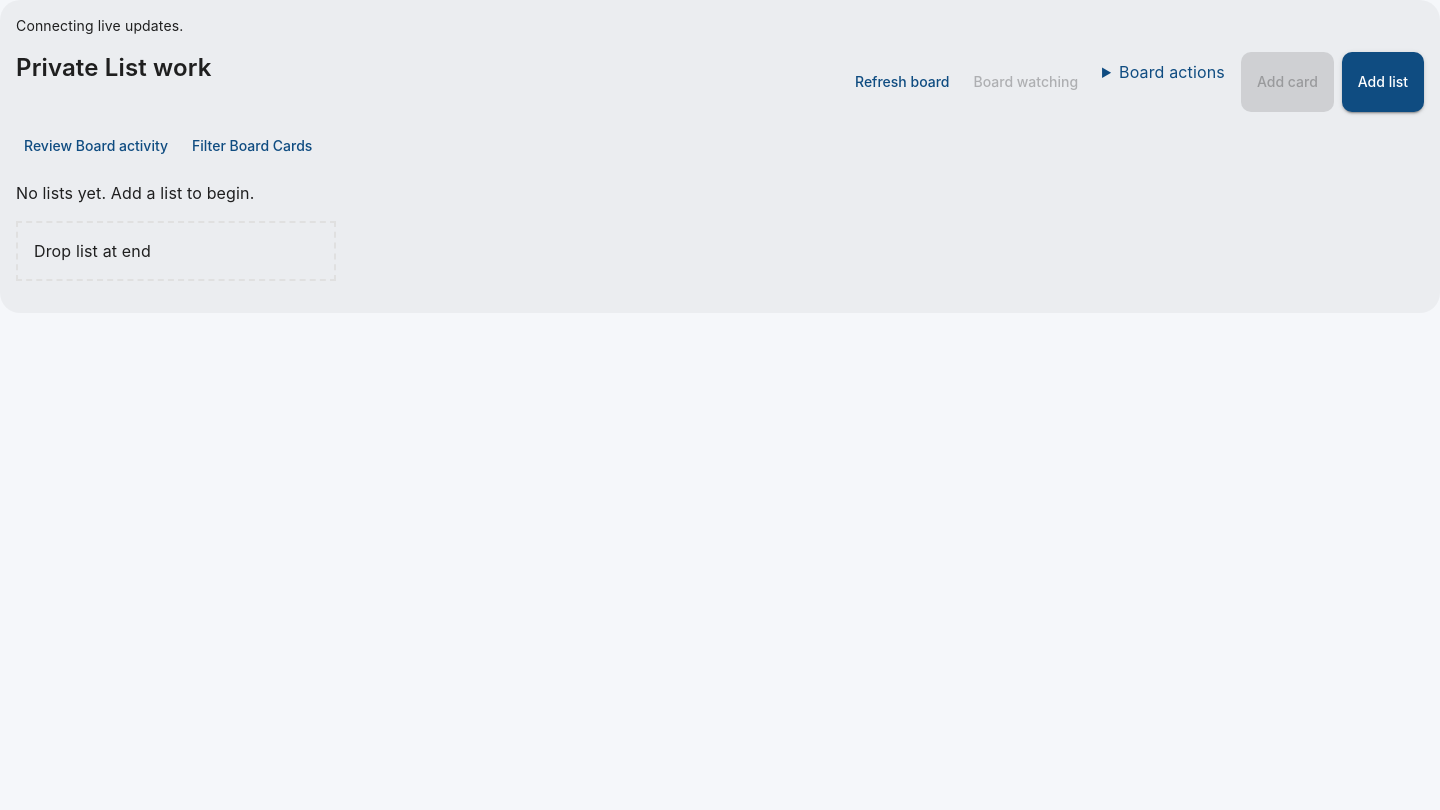
Scenario: PRD-07-VS-05 List creation identity › allows explicit entry retry after unavailable identity without exposing a List form
This screenshot has width=1440, height=810.
Click the button "Add list" at (1383,82), box [1342,52,1424,112]
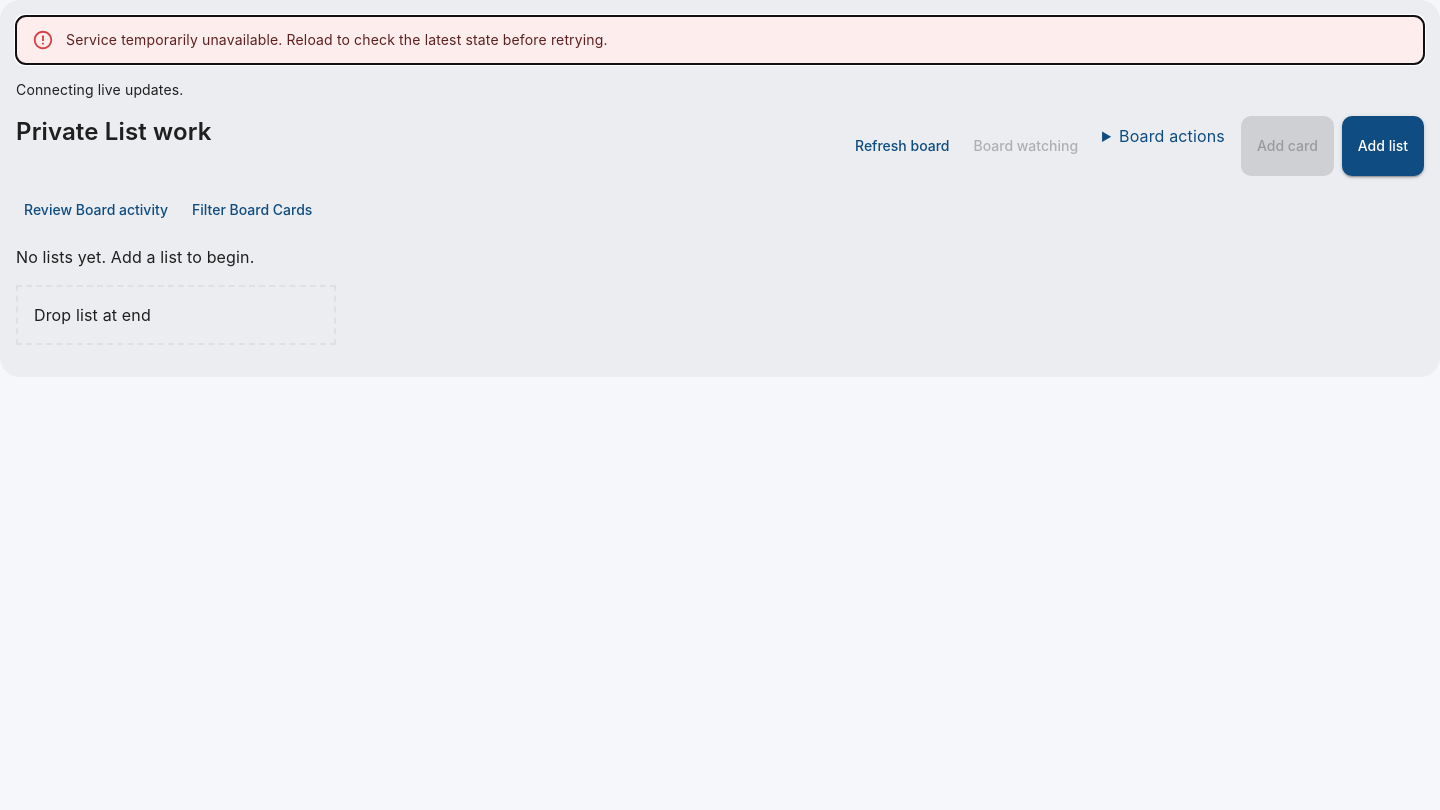
Expected: the 1st message shows "Service temporarily unavailable", [66,31,608,48]
Click the button "Add list" at (1383,146), box [1342,116,1424,176]
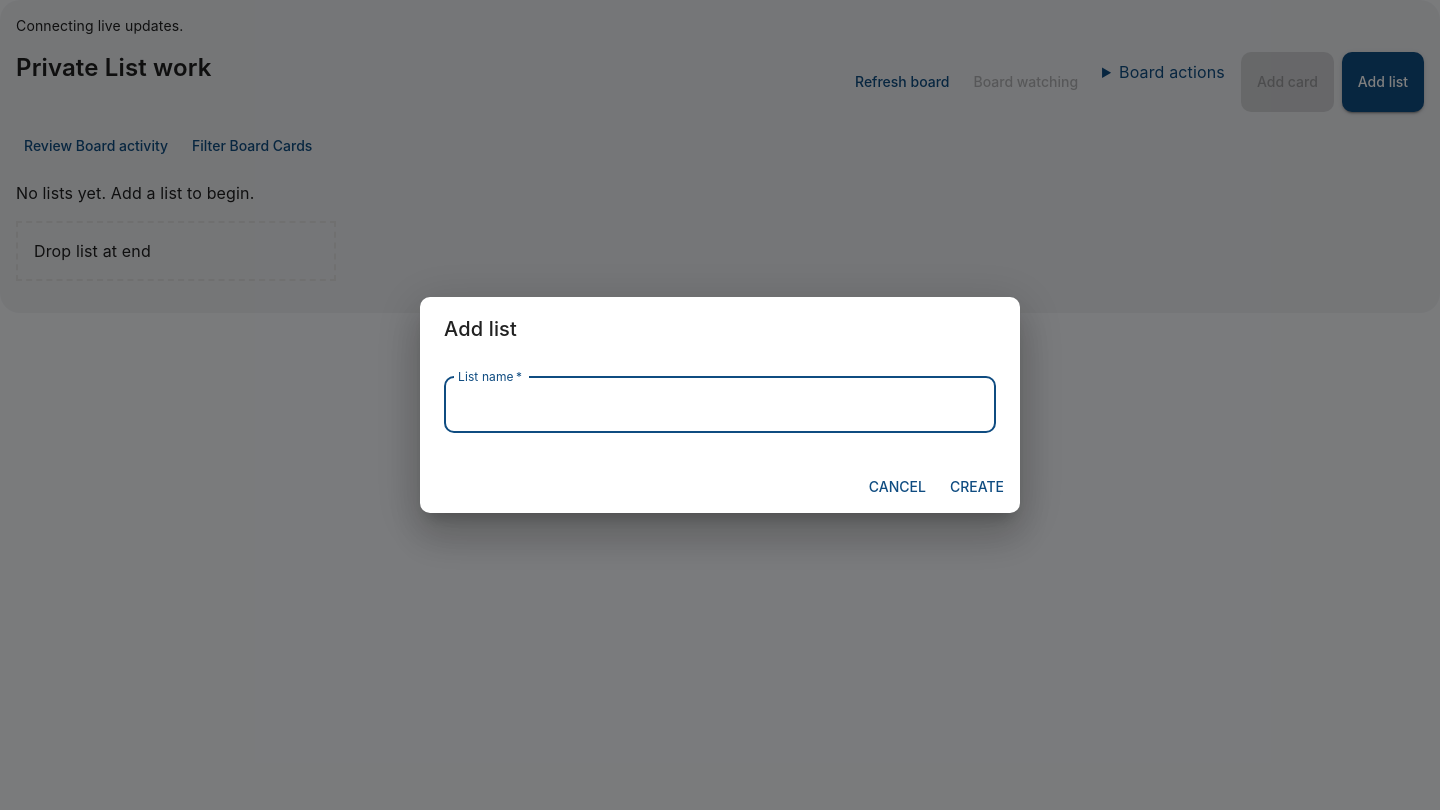
Expected: the field labelled "List name *" is shown, [444,377,996,433]
